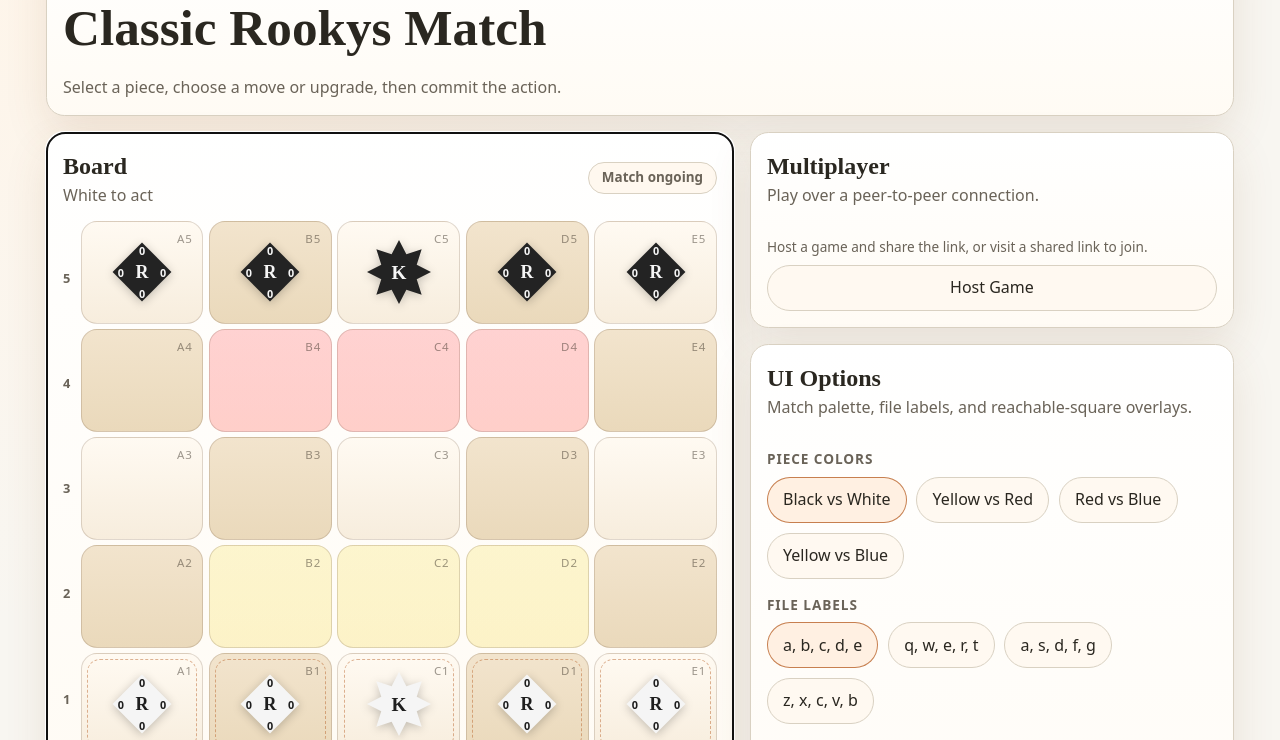
Test case: App – multiplayer › leave game destroys session and returns to idle state
(page scrolled)
Click the button "Host Game": {"x": 992, "y": 288} x1=767 y1=265 x2=1217 y2=311
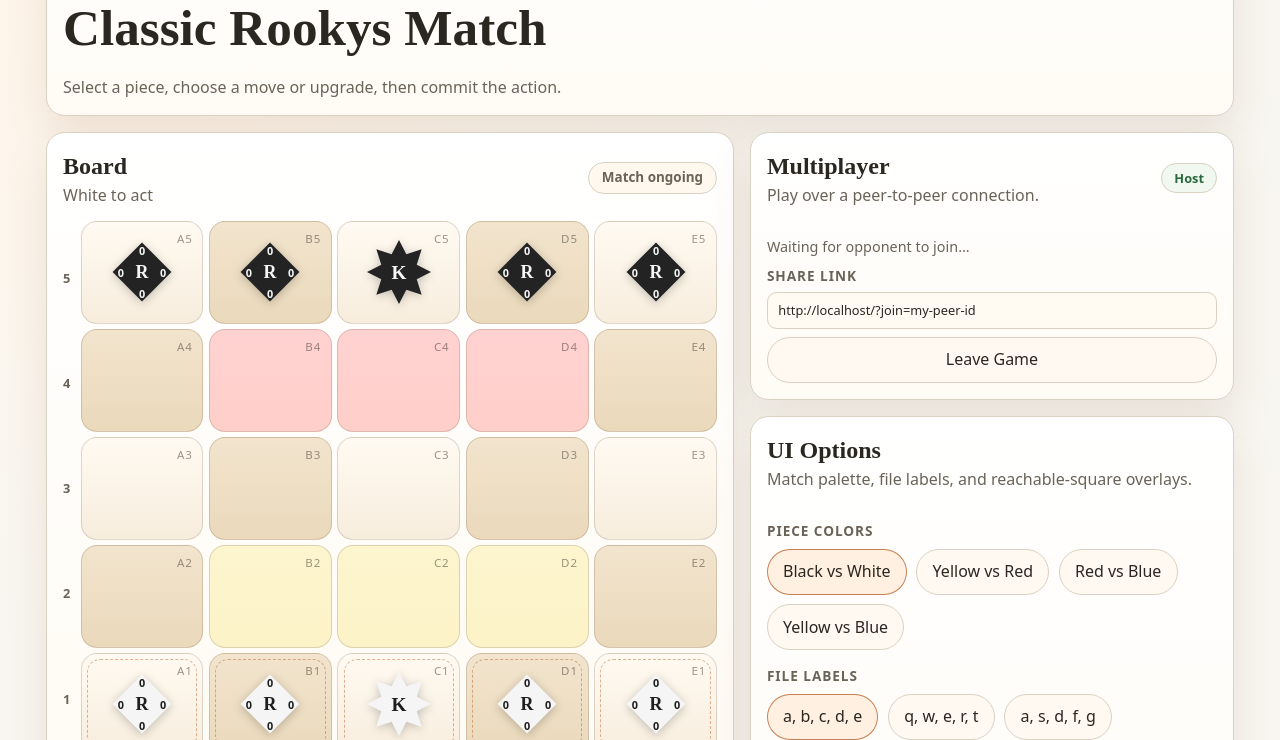
Click the button "Leave Game": {"x": 992, "y": 360} x1=767 y1=337 x2=1217 y2=383
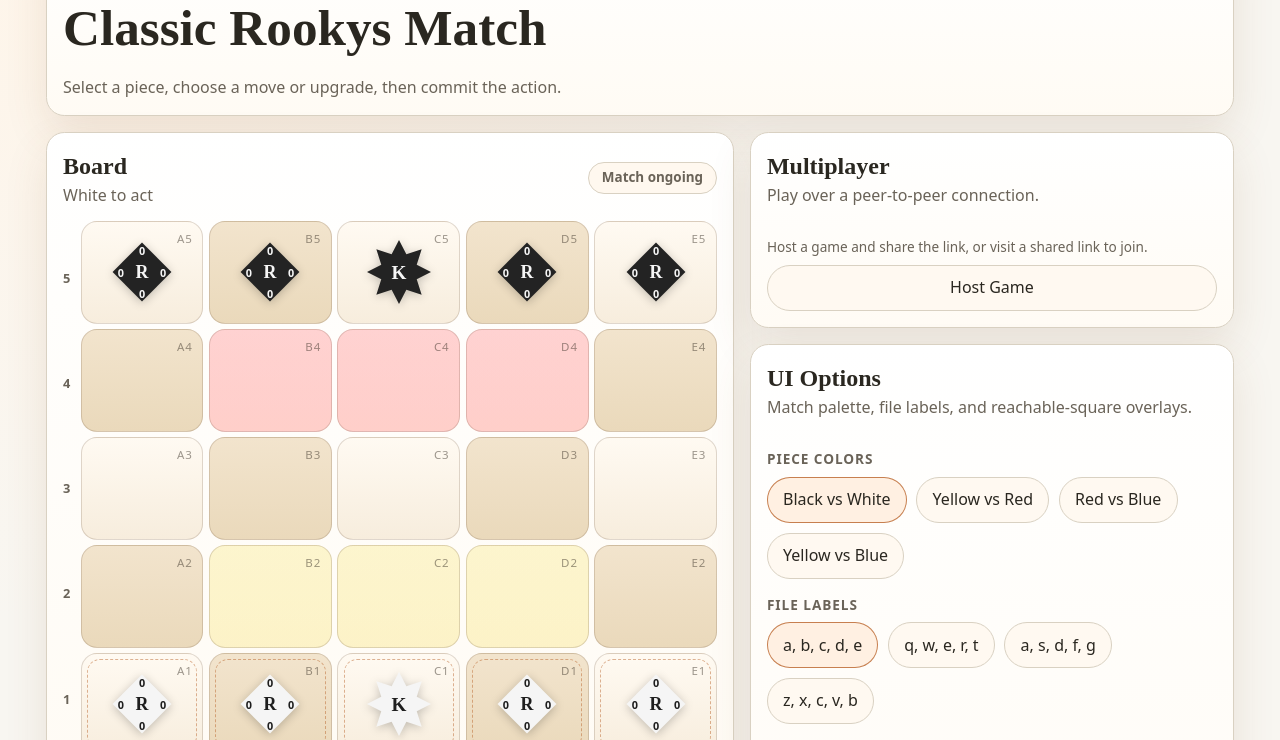
Result: the button "Host Game" is shown at x1=767 y1=265 x2=1217 y2=311
